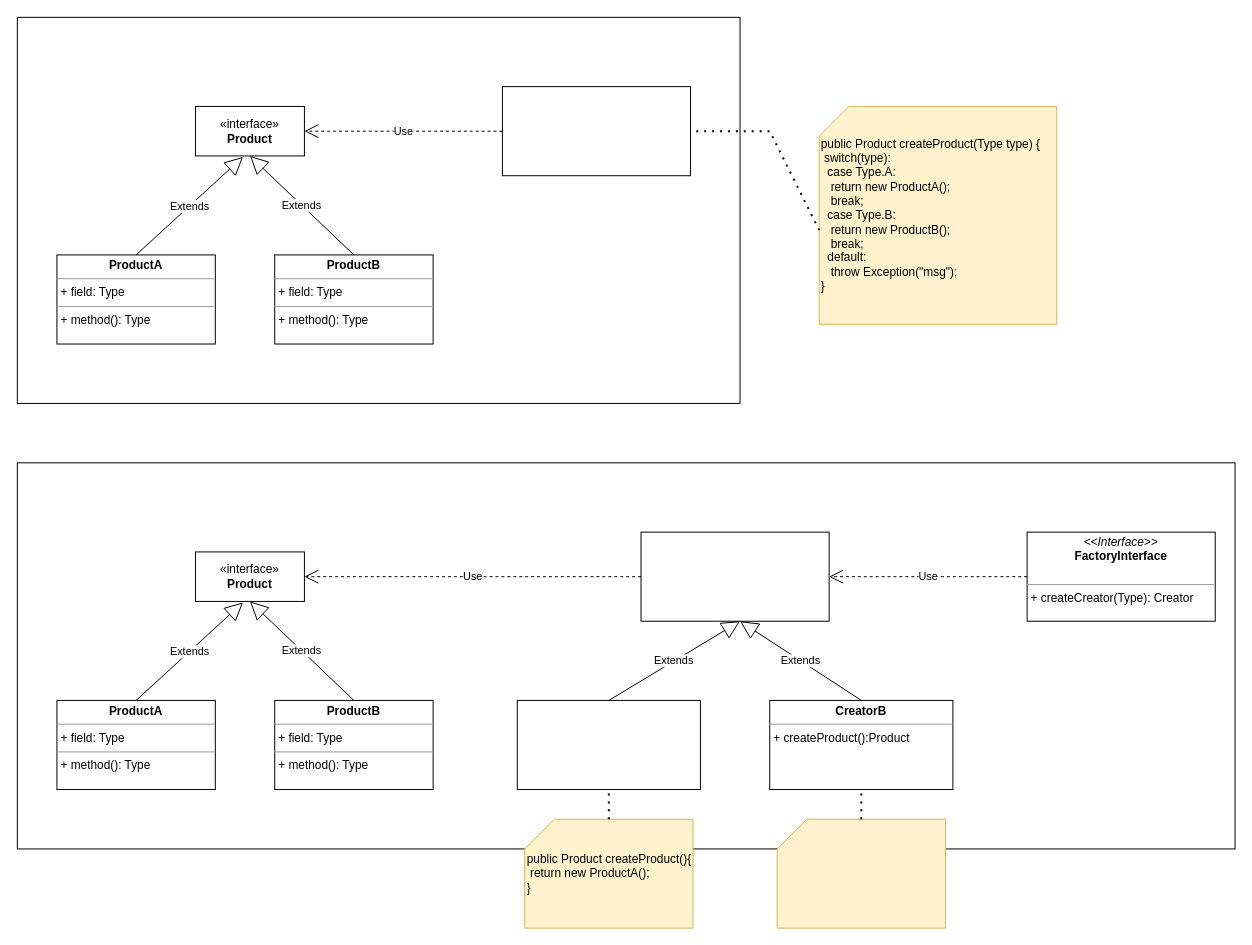
This 1252x945 diagram has some shape labels left out. The shapes that lost their labels are listed below. From the top down, each one's box as (x1, y1, x2, y2) in pixels, then its label:
(501, 86, 691, 176): <<Interface>> FactoryInterface + createProduct(Type): Product
(640, 531, 829, 621): <<Interface>> Creator + createProduct(Type): Product
(516, 699, 700, 790): CreatorA + createProduct():Product
(776, 818, 945, 928): public Product createProduct(){ return new ProductB(); }
